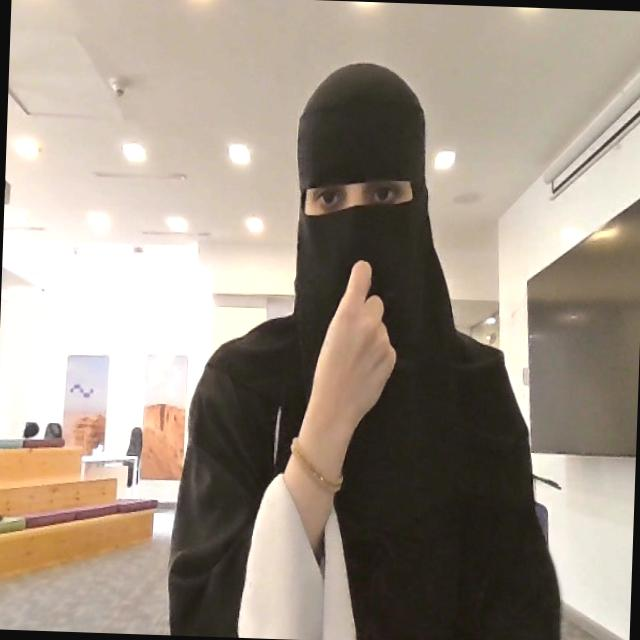medicine: (293, 254, 400, 480)
